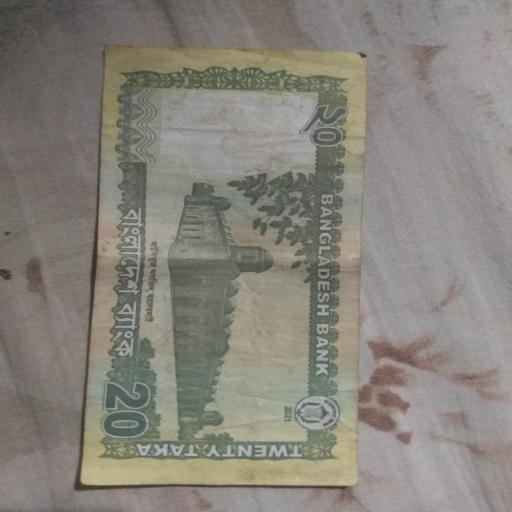20taka: (81, 46, 366, 487)
